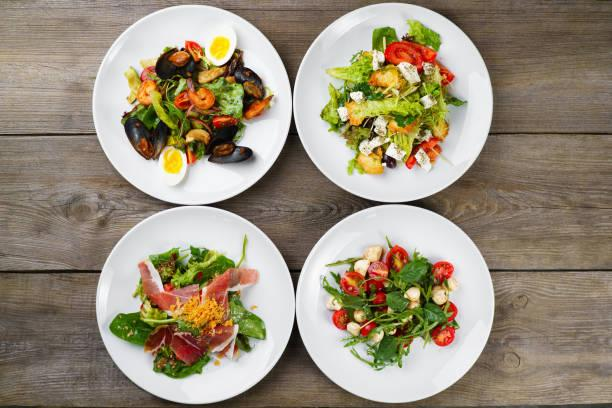Braised Crucian Carp: (293, 1, 493, 202), (293, 203, 494, 402), (91, 4, 289, 204), (94, 206, 292, 404)
